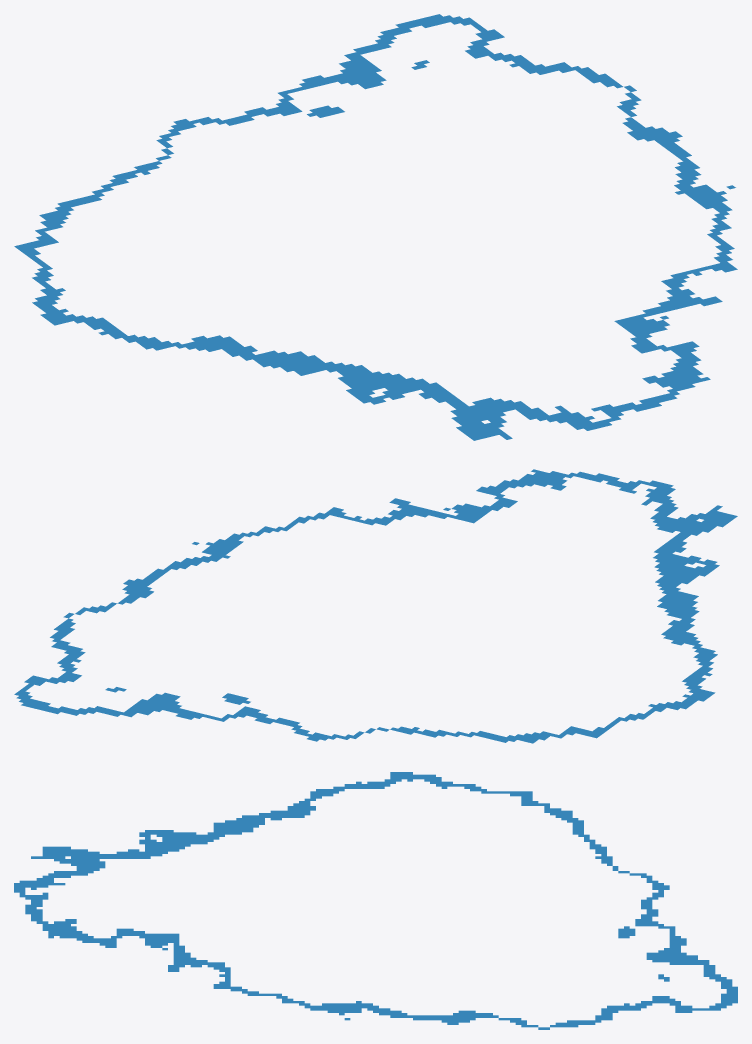
File: Isl-hilly2-PlaceForWaterObjects.fbx
3 views of the same model, one above another, from view 1: azimuth 30°, elevation 25°; view 2: azimuth 150°, elevation 25°; view 3: azimuth 270°, elevation 25° (orthographic). The views are drawn at different scales.
Visible parts, largest first — view 1: Isl-hilly2-PlaceForWaterObjects; view 2: Isl-hilly2-PlaceForWaterObjects; view 3: Isl-hilly2-PlaceForWaterObjects.
Boxes of the visible parts, x1,y1,x2,y2 form: Isl-hilly2-PlaceForWaterObjects: [14, 14, 737, 440]; Isl-hilly2-PlaceForWaterObjects: [14, 469, 737, 743]; Isl-hilly2-PlaceForWaterObjects: [14, 772, 737, 1029].
Size of the model in its own units: 107 by 0 by 127.
